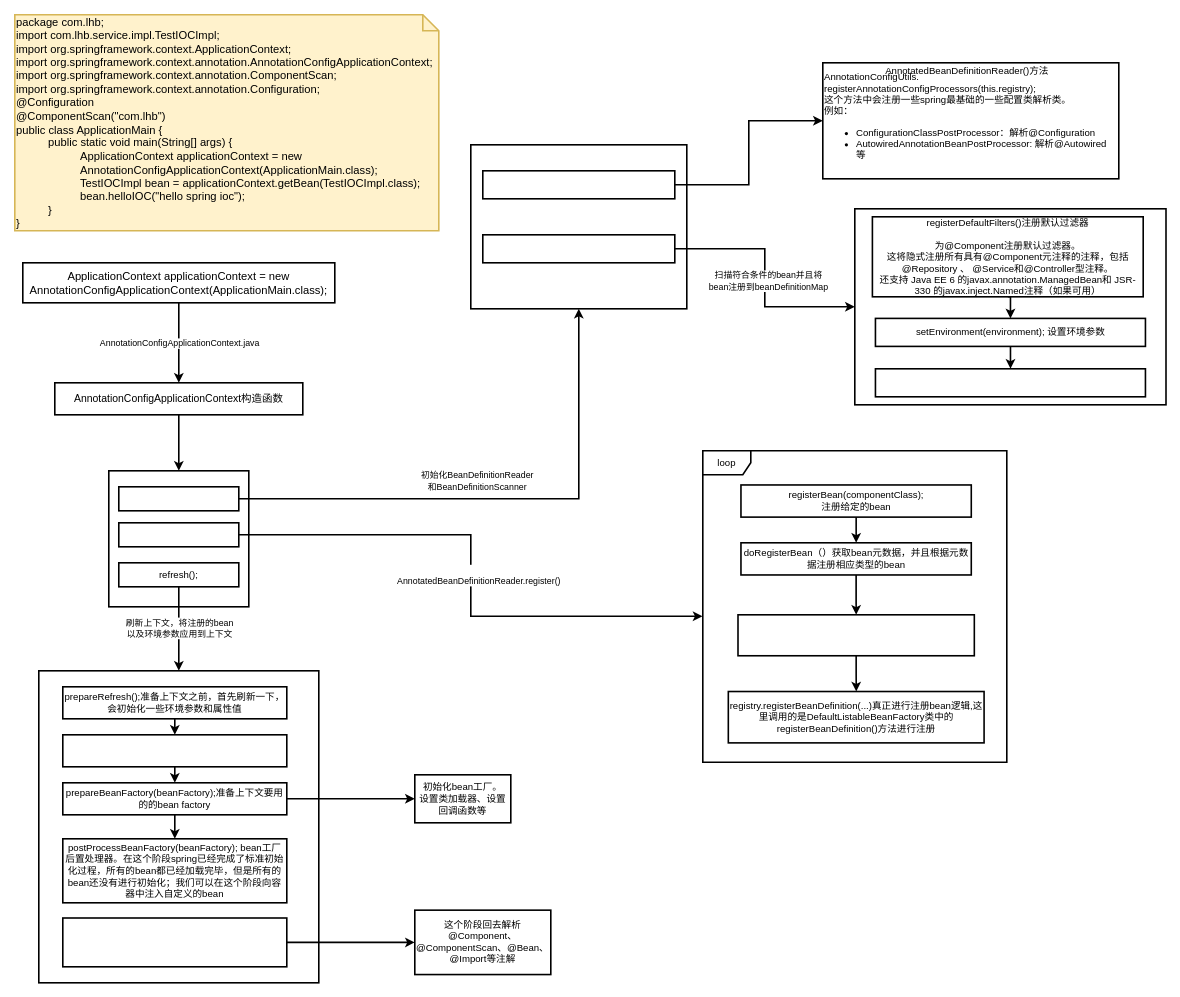
Image size: 1180x997. Some labels were removed from this diagram. The shapes that lost their labels are listed below. From the top down, each one's centre as x and y in pixels, then its label:
pixel 578 184: new AnnotatedBeanDefinitionReader(this);
pixel 578 248: new ClassPathBeanDefinitionScanner(this);
pixel 1010 382: setResourceLoader(resourceLoader);设置ResourceLoader以用于资源位置
pixel 178 498: this();
pixel 178 534: register();
pixel 856 635: registerBeanDefinition(...)将bean定义注册到beaDefinitionMap中
pixel 174 750: obtainFreshBeanFactory();通知子类刷新内部bean Factory
pixel 174 942: invokeBeanFactoryPostProcessors(beanFactory);
